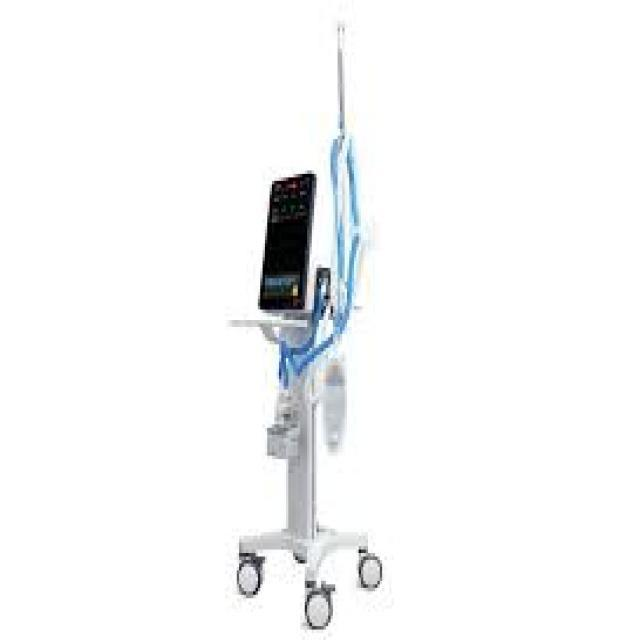ventilator: (174, 77, 441, 631)
